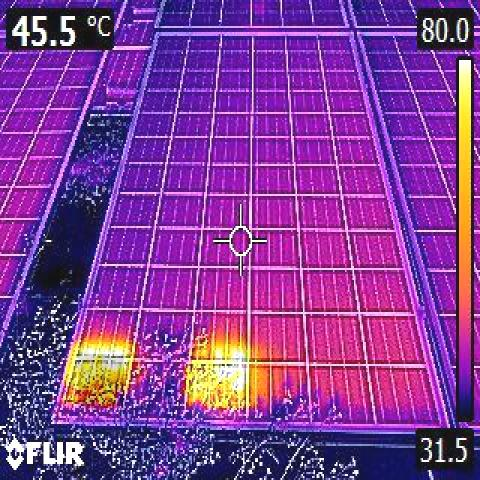fault: (192, 359, 242, 418), (78, 356, 124, 408)
